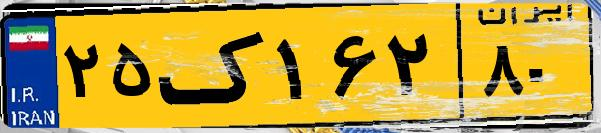0: (525, 38, 570, 115)
1: (270, 28, 330, 110)
2: (385, 28, 445, 110), (57, 26, 110, 100)
5: (110, 28, 158, 98)
6: (330, 28, 385, 110)
8: (475, 38, 525, 113)
ک: (158, 12, 270, 120)
